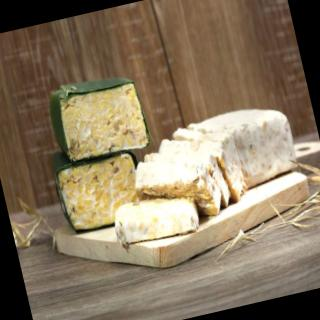Tempe: (34, 68, 169, 236), (186, 99, 302, 200), (44, 68, 153, 168), (110, 187, 204, 251)
